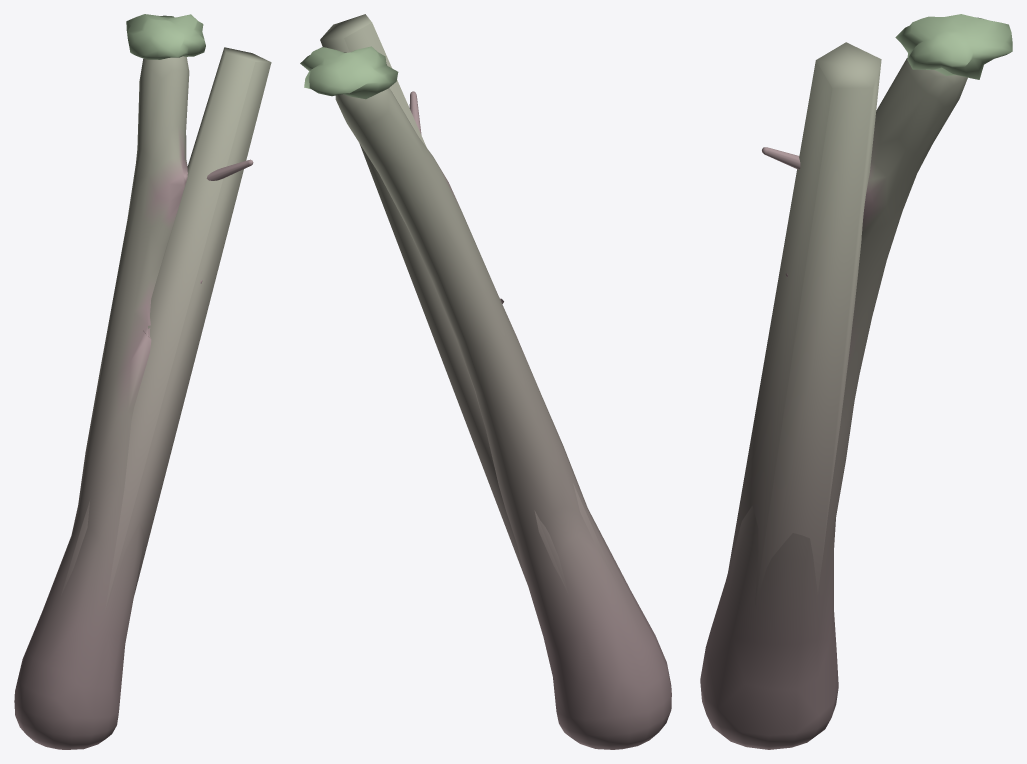
The model's file is leaning_trunk.glb.
The picture shows the model from 3 angles, left to right: view 1: azimuth 30°, elevation 25°; view 2: azimuth 150°, elevation 25°; view 3: azimuth 270°, elevation 25°; orthographic projection. The views are drawn at different scales.
Visible parts, largest first — view 1: near, far; view 2: near, far; view 3: near, far.
Boxes of the visible parts, box(x1,y1,x2,y2) form: near: box(14, 14, 253, 749); far: box(61, 47, 271, 611); near: box(300, 46, 671, 749); far: box(320, 14, 616, 593); near: box(700, 14, 1012, 749); far: box(728, 42, 881, 605).
Bounding box in the file's own units: 3.08 × 6.78 × 2.33.
